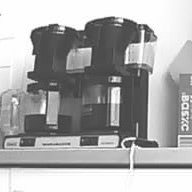not empty coffee: (76, 73, 133, 134)
